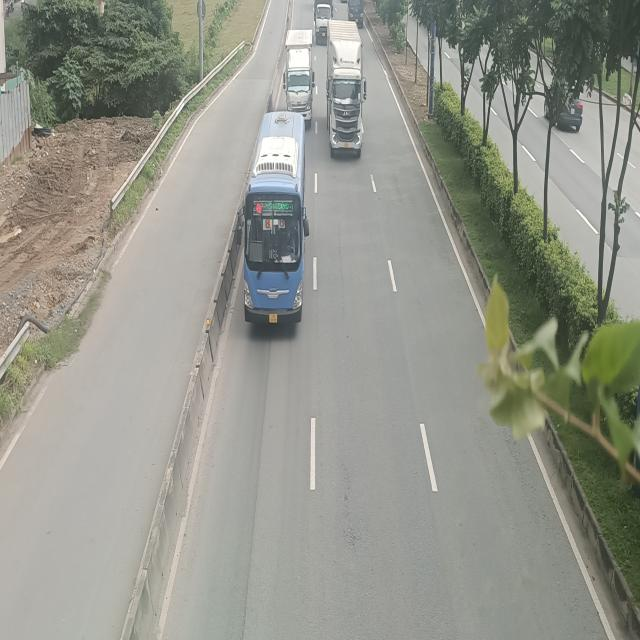coach: (235, 109, 309, 324)
container: (327, 20, 367, 153)
truck: (284, 30, 314, 125), (314, 0, 332, 44)
